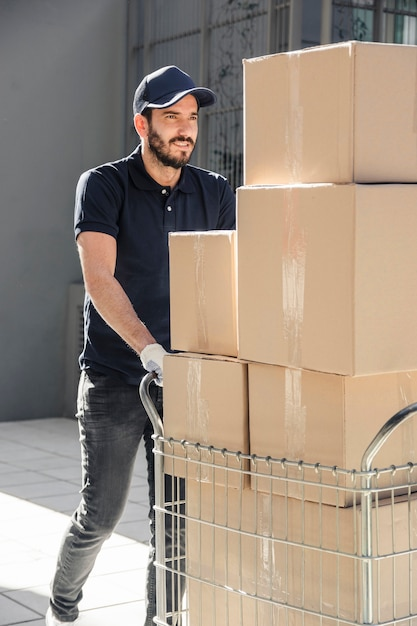DeliveryBox: (166, 227, 417, 626), (240, 56, 417, 381)
Person: (53, 62, 236, 626)
